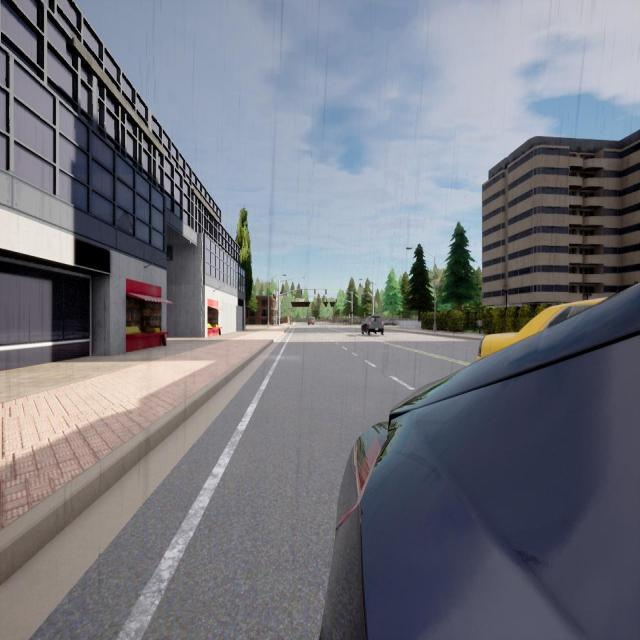Vehicle: (321, 284, 639, 638), (477, 299, 612, 359), (362, 316, 384, 335), (384, 319, 397, 325), (308, 317, 315, 325)
traffic_light: (314, 290, 316, 294), (352, 310, 353, 314), (326, 298, 327, 302), (301, 290, 302, 294), (318, 299, 319, 302), (336, 299, 336, 303), (326, 289, 326, 294)
